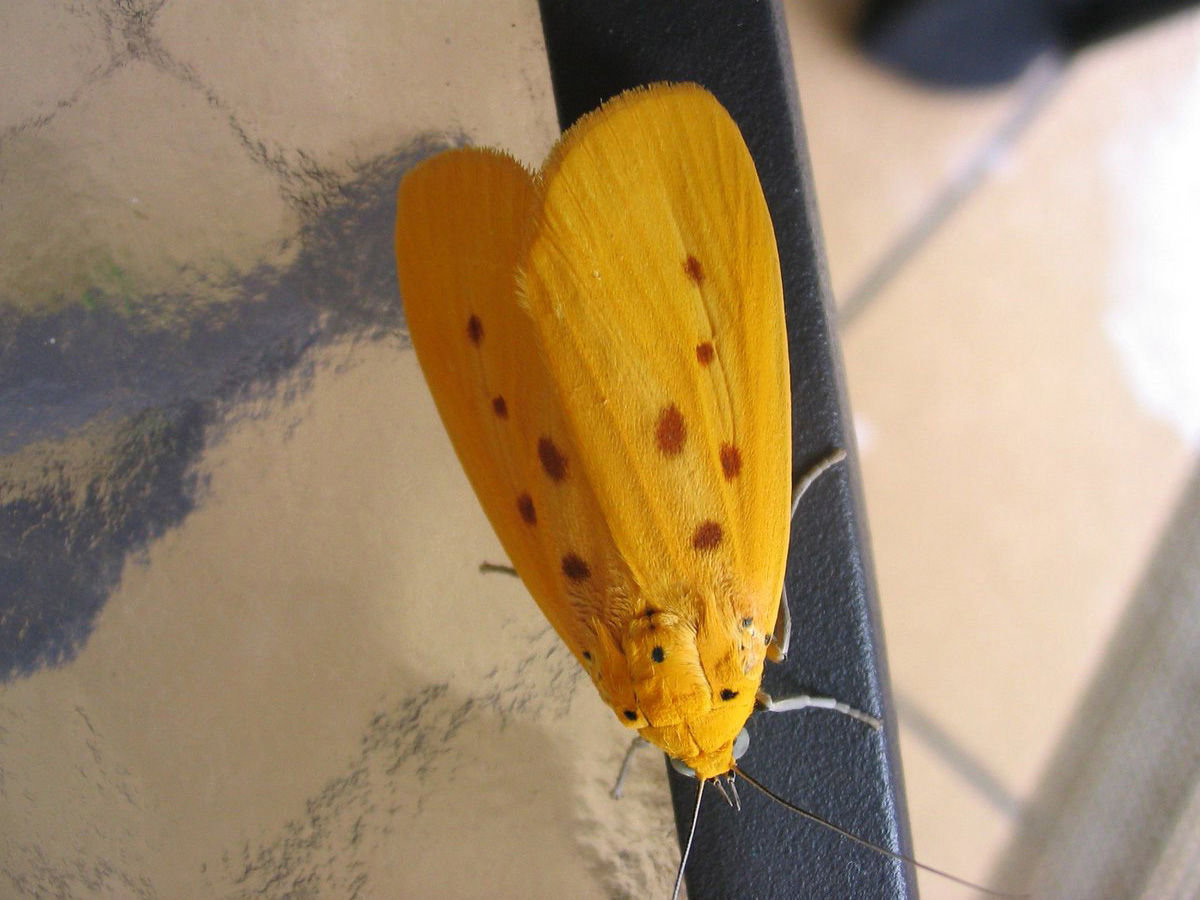Agape chloropyga: (383, 72, 1008, 898)
moth: (385, 74, 1010, 900)
